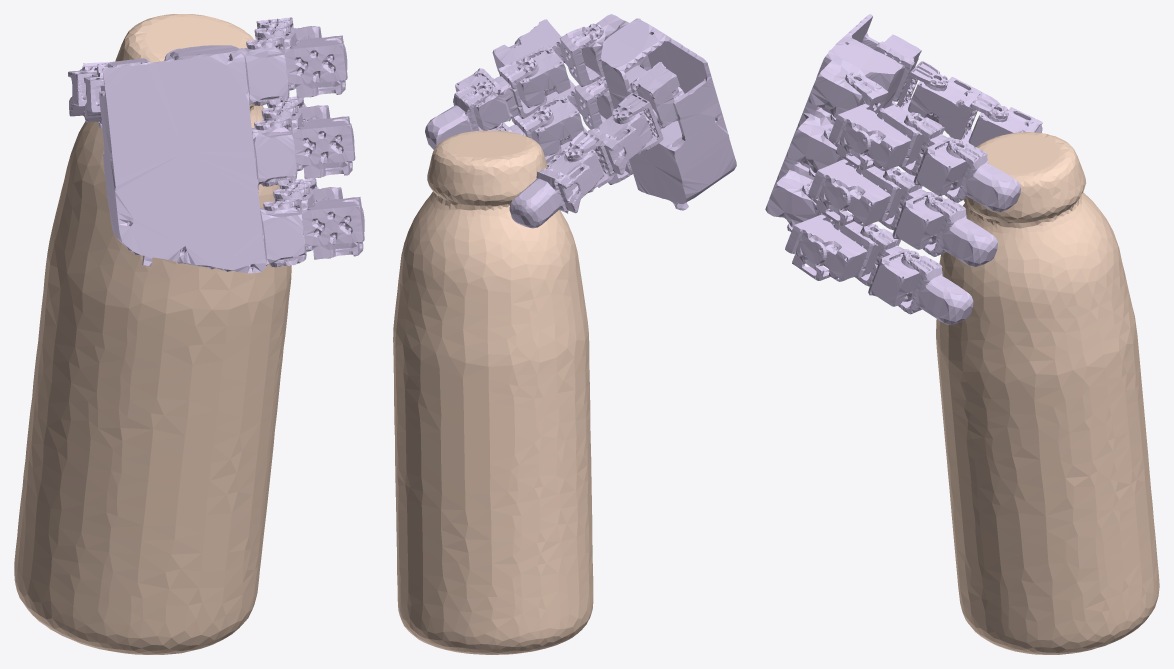
File: 9ae933caa3ae88-final.glb
3 views of the same model, side by side, from view 1: azimuth 30°, elevation 25°; view 2: azimuth 150°, elevation 25°; view 3: azimuth 270°, elevation 25° (orthographic). The views are drawn at different scales.
Visible parts, largest first — view 1: world, LEAP_hand; view 2: world, LEAP_hand; view 3: world, LEAP_hand.
Part boxes in pixels (<box>): world: <box>14,14,291,654</box>; LEAP_hand: <box>68,17,364,273</box>; world: <box>393,130,593,654</box>; LEAP_hand: <box>425,14,736,228</box>; world: <box>936,132,1159,654</box>; LEAP_hand: <box>765,14,1042,324</box>.
Size of the model in its own units: 0.1825 by 0.4168 by 0.2673.
